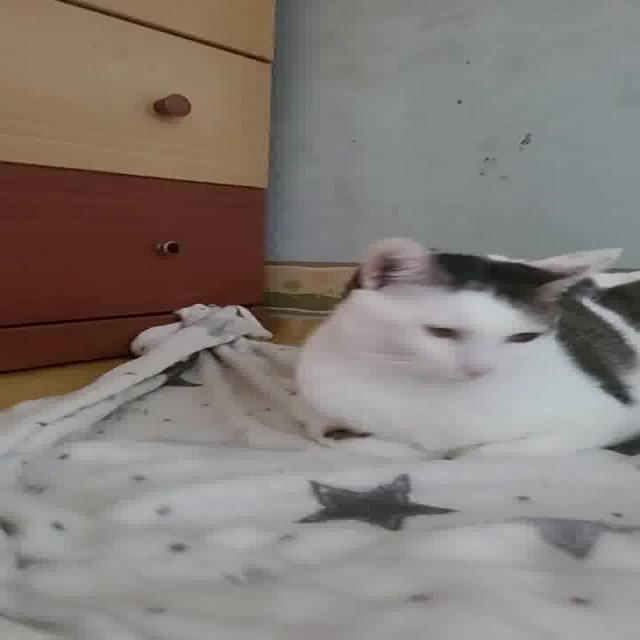cat: (295, 234, 640, 463)
